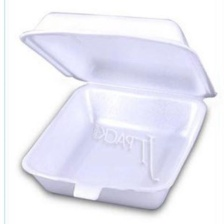foam_box: (13, 6, 220, 212)
